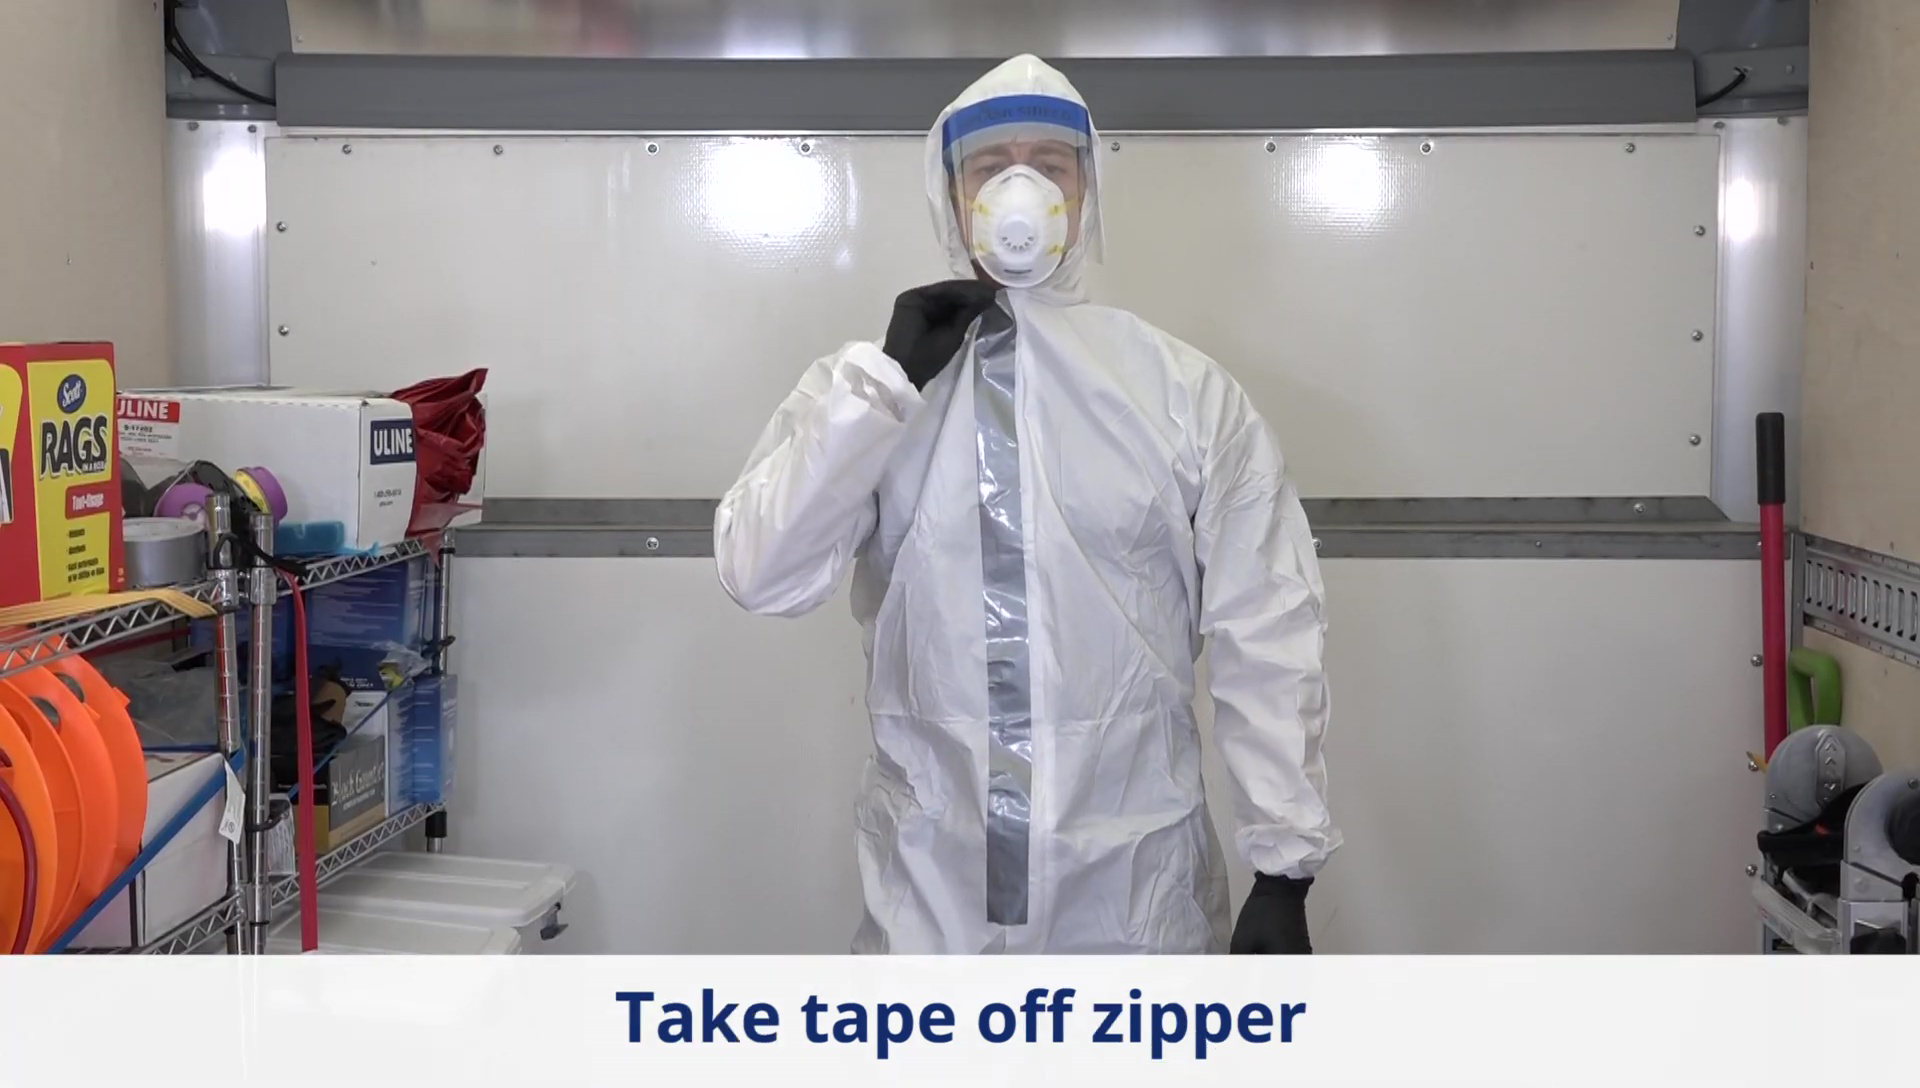Coverall: (712, 53, 1341, 953)
Face_Shield: (937, 89, 1111, 287)
Gloves: (879, 274, 997, 399), (1232, 871, 1319, 951)
with_mask: (971, 168, 1067, 287)
